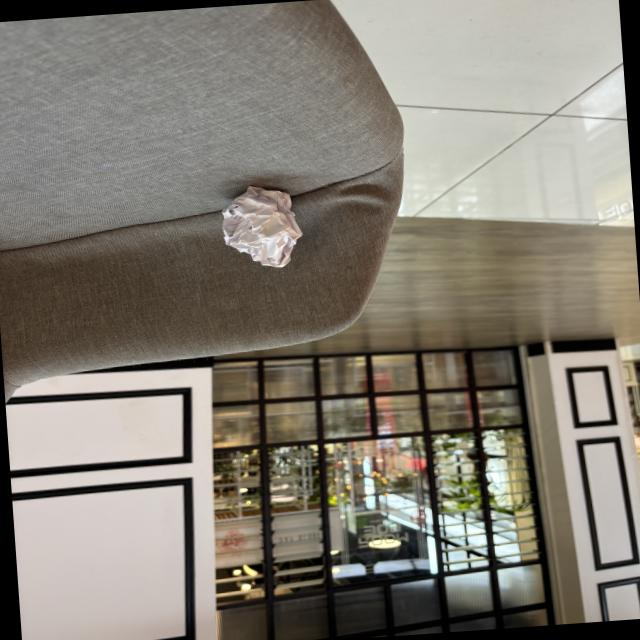crumpled_paper: (216, 176, 307, 277)
